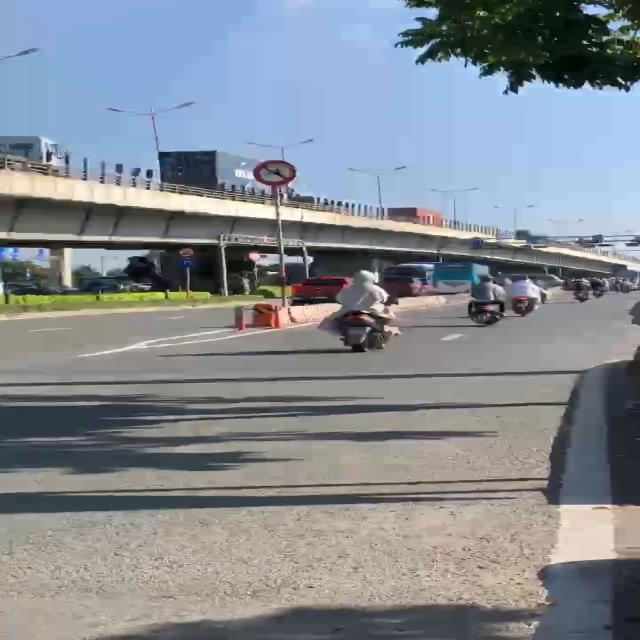Bien bao cam xe may: (246, 158, 298, 189)
